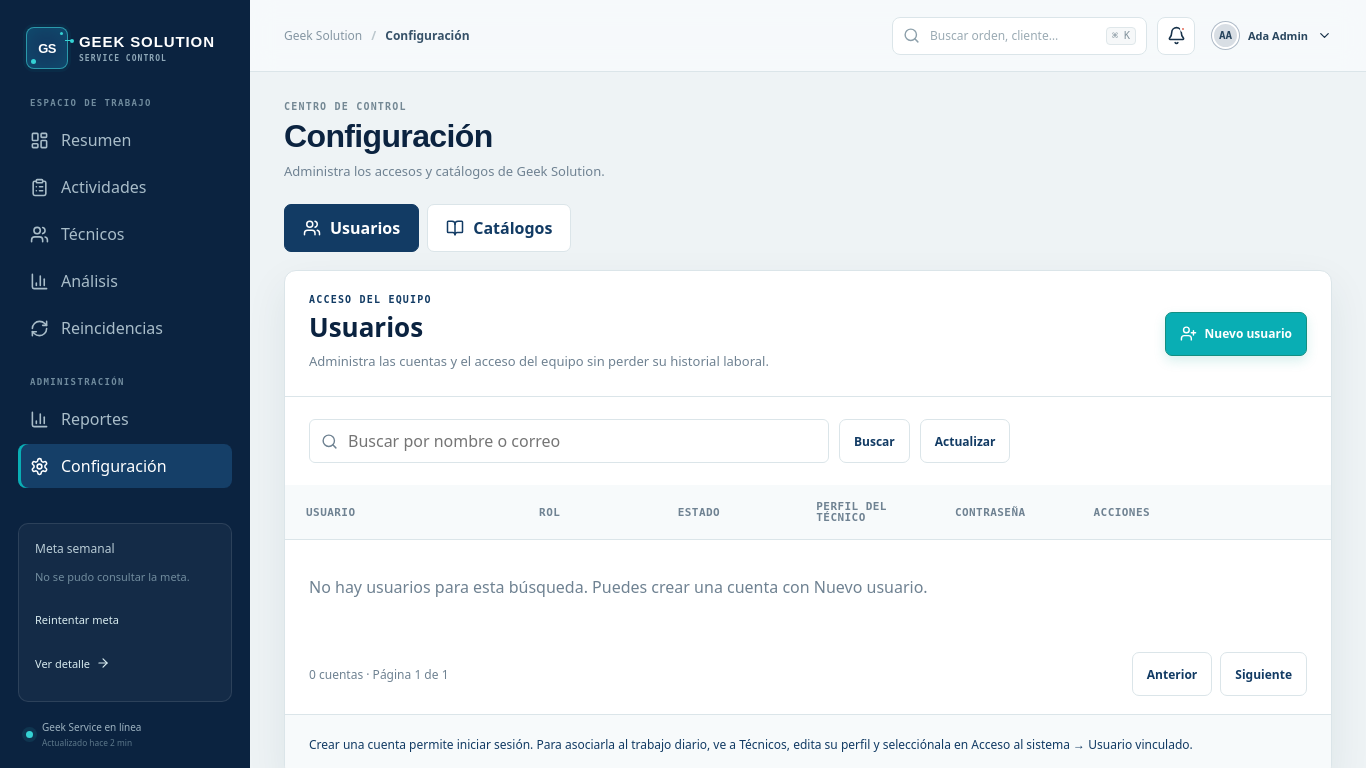
Test: catálogos en Configuración › muestra el autor y los cambios del historial
Click the button "Catálogos": (499, 228) x1=427 y1=204 x2=571 y2=252
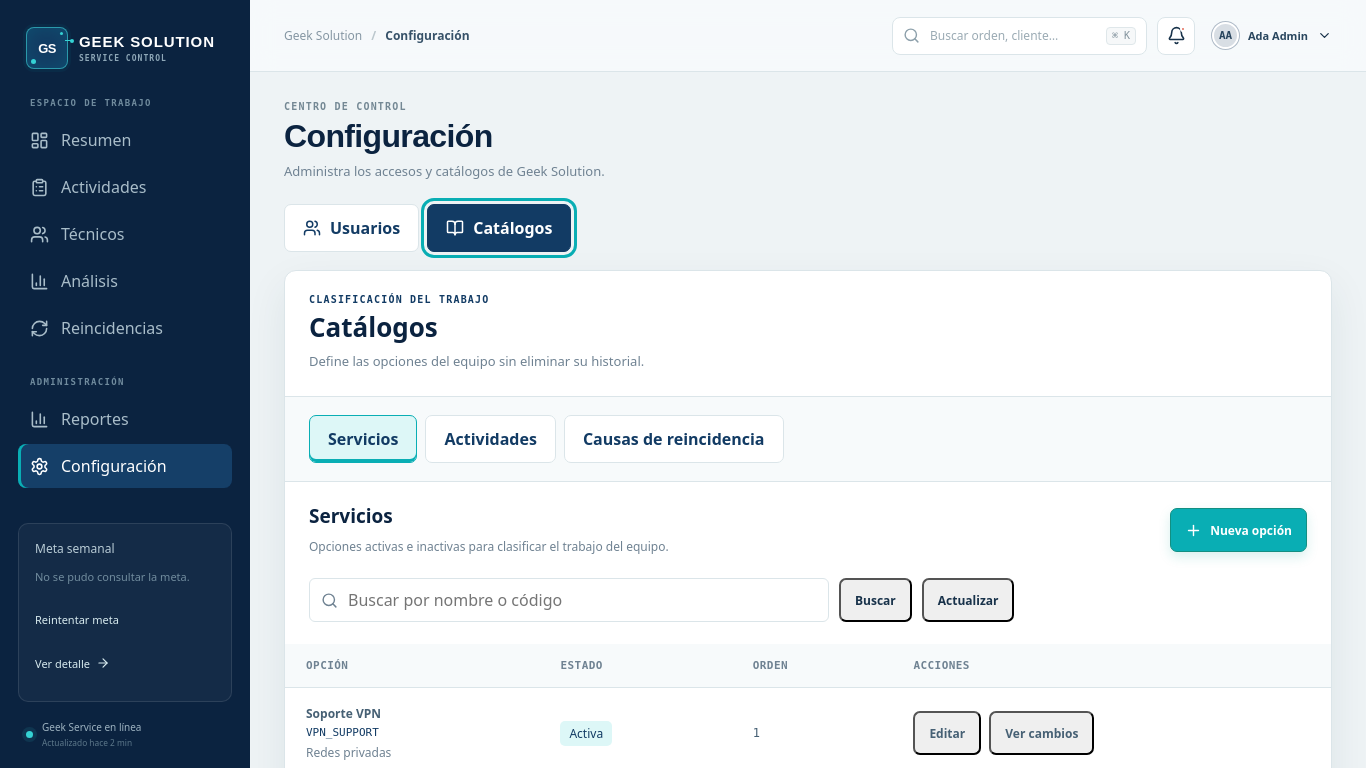
expect the text "Soporte VPN" is shown: met, box x1=306 y1=705 x2=381 y2=722
Click the button with aria-label "Ver cambios de Soporte VPN": (1042, 733) x1=989 y1=711 x2=1094 y2=755
(page scrolled)
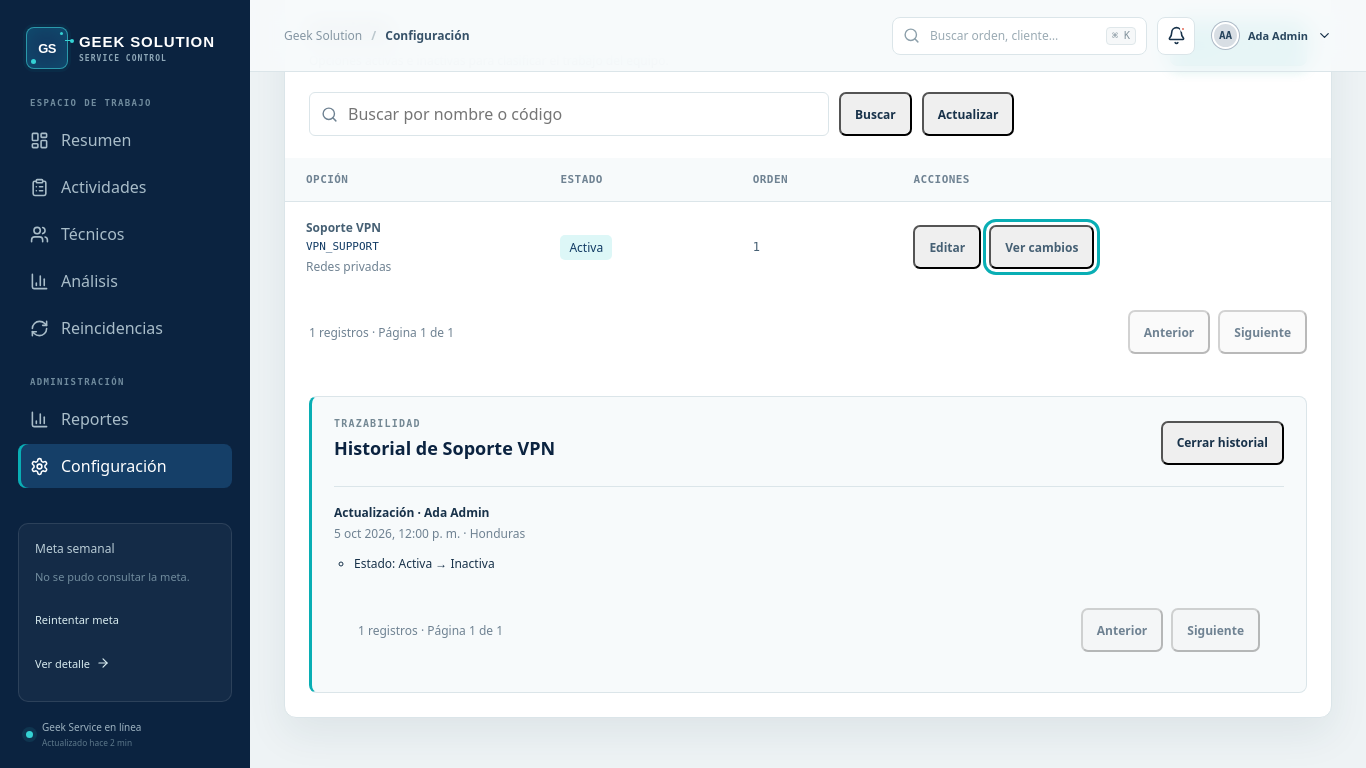
expect the heading "Historial de Soporte VPN" is shown: met, box x1=334 y1=436 x2=555 y2=460
expect the list item "Estado: Activa → Inactiva" is shown: met, box x1=354 y1=555 x2=495 y2=572
expect the text "Actualización · Ada Admin" is shown: met, box x1=334 y1=504 x2=490 y2=521
